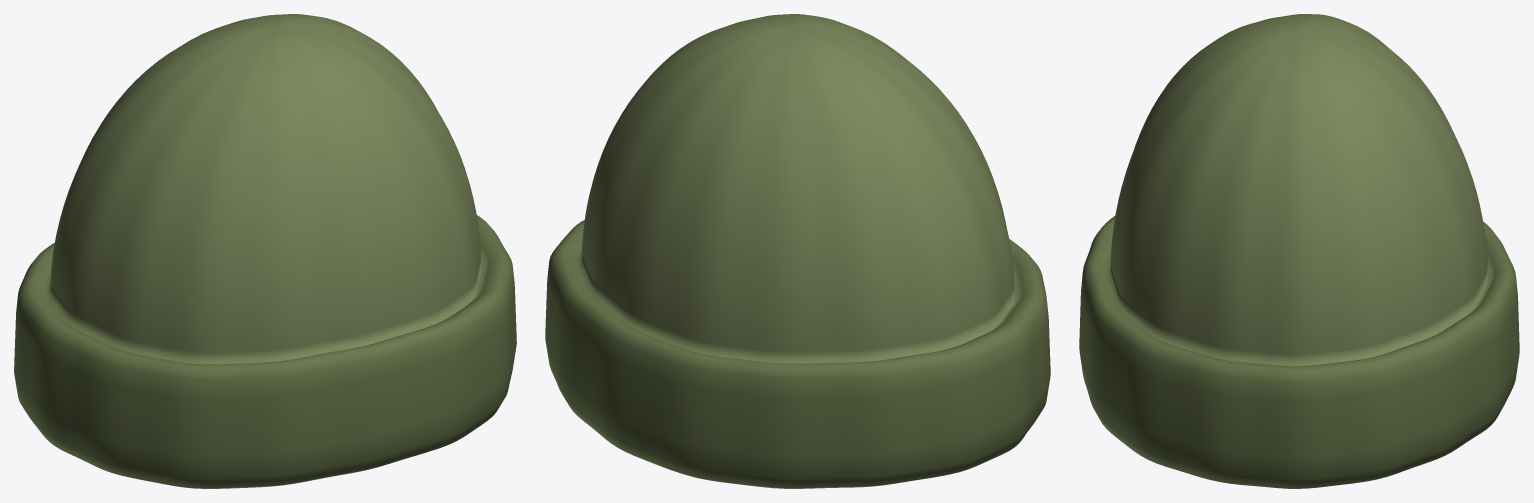
The picture shows the model from 3 angles, left to right: view 1: azimuth 30°, elevation 25°; view 2: azimuth 150°, elevation 25°; view 3: azimuth 270°, elevation 25°; orthographic projection. The views are drawn at different scales.
Visible parts, largest first — view 1: Complete hollow cuffed beanie; view 2: Complete hollow cuffed beanie; view 3: Complete hollow cuffed beanie.
Boxes of the visible parts, box(x1,y1,x2,y2) form: Complete hollow cuffed beanie: box(14, 14, 516, 488); Complete hollow cuffed beanie: box(545, 14, 1050, 488); Complete hollow cuffed beanie: box(1079, 14, 1519, 488).
Size of the model in its own units: 25.33 by 19.92 by 21.78.
